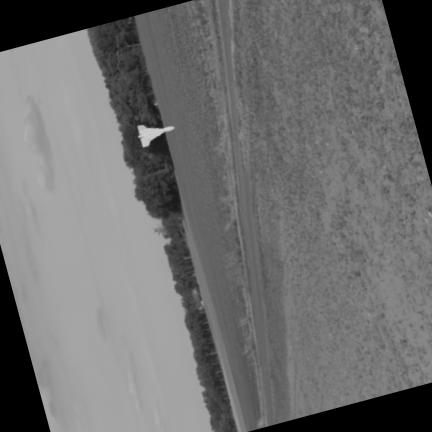Shahed: (137, 123, 174, 146)
